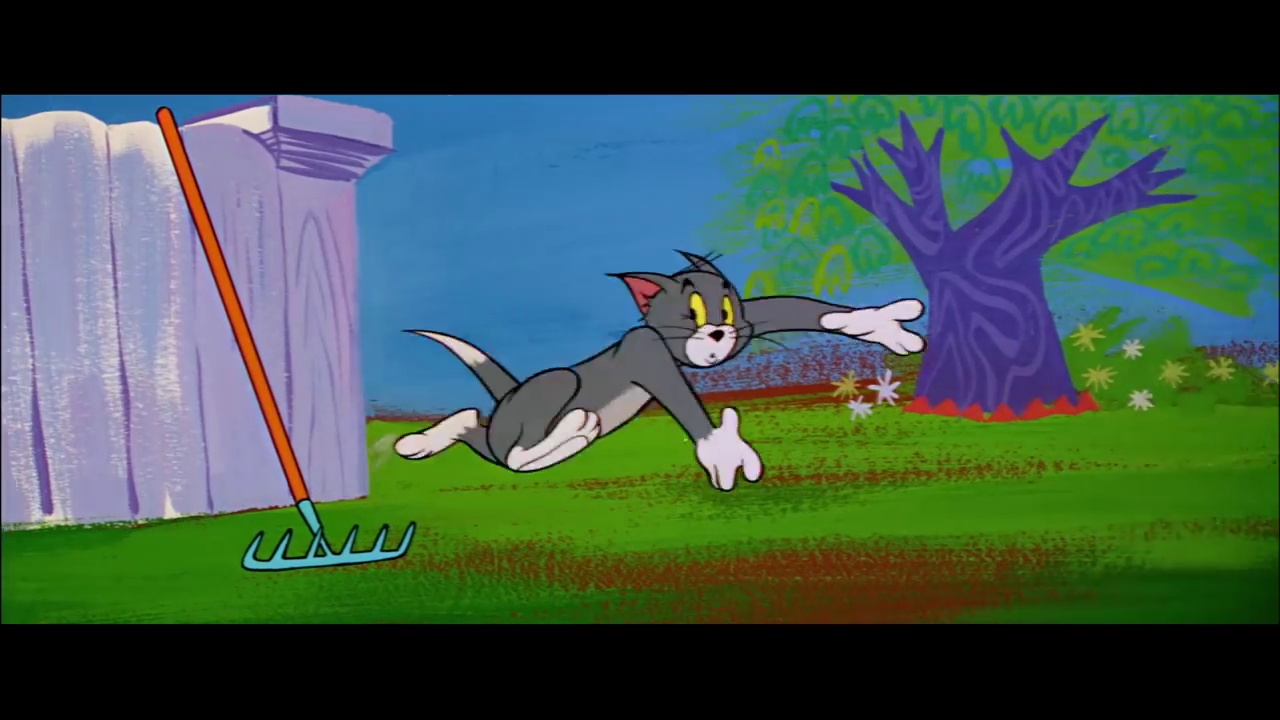tom: (603, 245, 769, 373)
